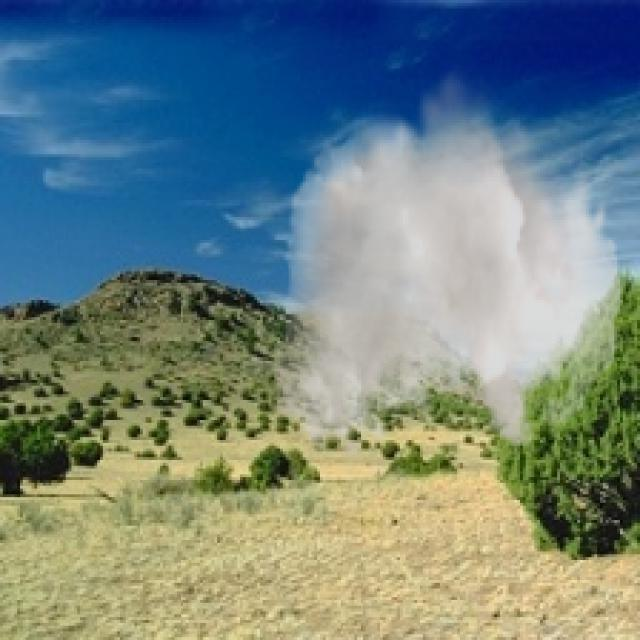Smoke: (272, 63, 622, 460)
